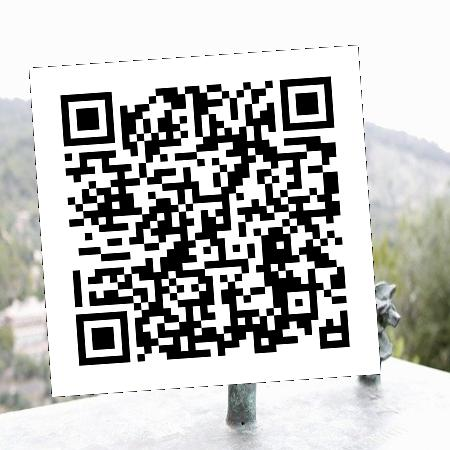qr_code: (29, 45, 380, 396)
